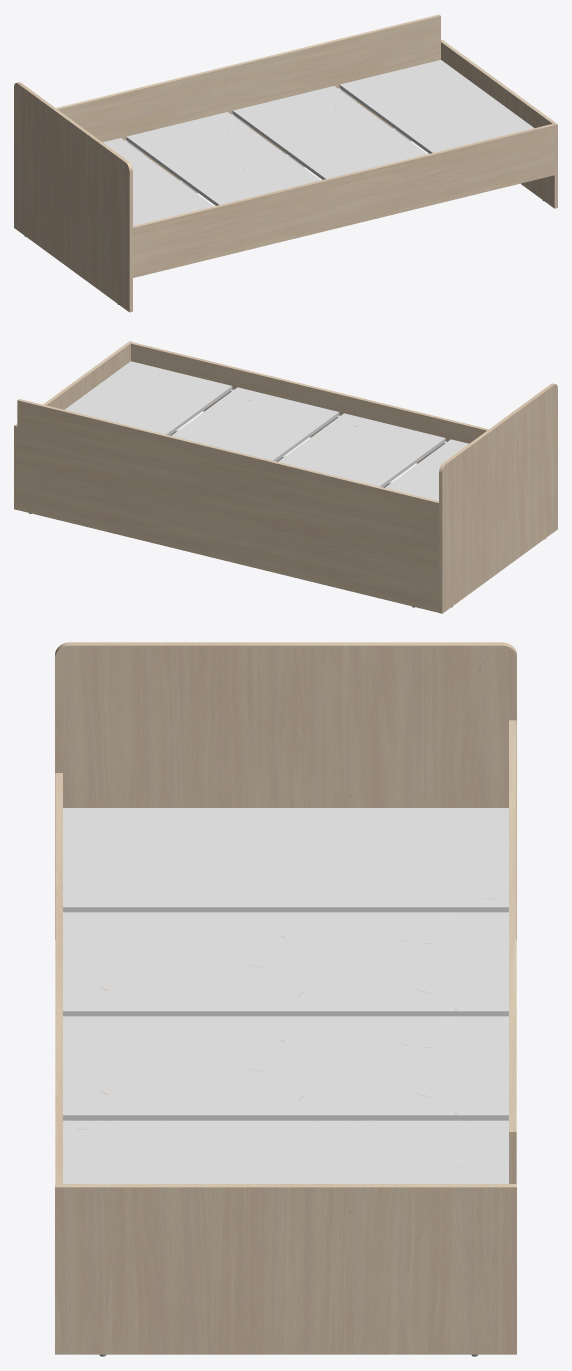
3 views of the same model, one above another, from view 1: azimuth 30°, elevation 25°; view 2: azimuth 150°, elevation 25°; view 3: azimuth 270°, elevation 25° (orthographic). The views are drawn at different scales.
Parts seen in each view (by area): view 1: VIFS034_Anesi_4_0; view 2: VIFS034_Anesi_4_0; view 3: VIFS034_Anesi_4_0.
Boxes of the visible parts, x1,y1,x2,y2 form: VIFS034_Anesi_4_0: [14, 14, 557, 312]; VIFS034_Anesi_4_0: [14, 341, 557, 613]; VIFS034_Anesi_4_0: [55, 642, 516, 1356].
Size of the model in its own units: 2042 by 675 by 954.
1 material, 1 textured.
